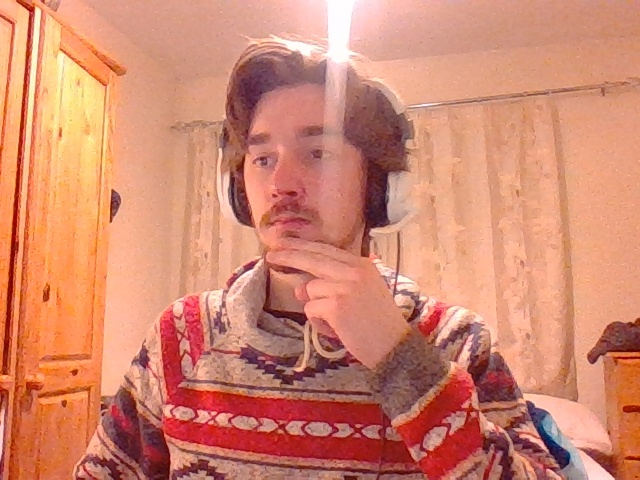afternoon: (266, 237, 410, 362)
